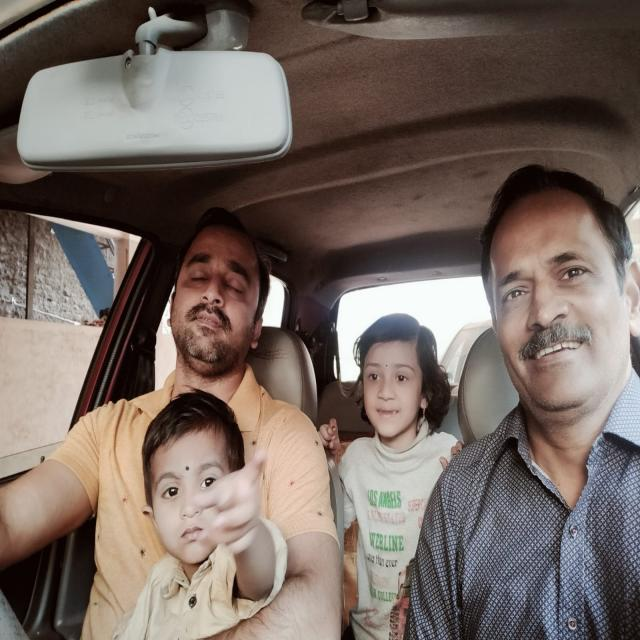child: (118, 392, 280, 571), (350, 314, 436, 471)
person: (461, 150, 640, 424), (166, 196, 276, 384)
